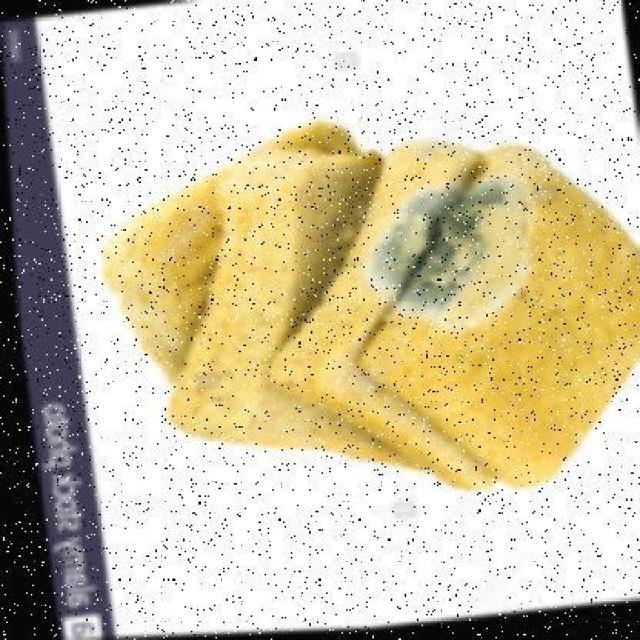Wet: (107, 66, 640, 524)
